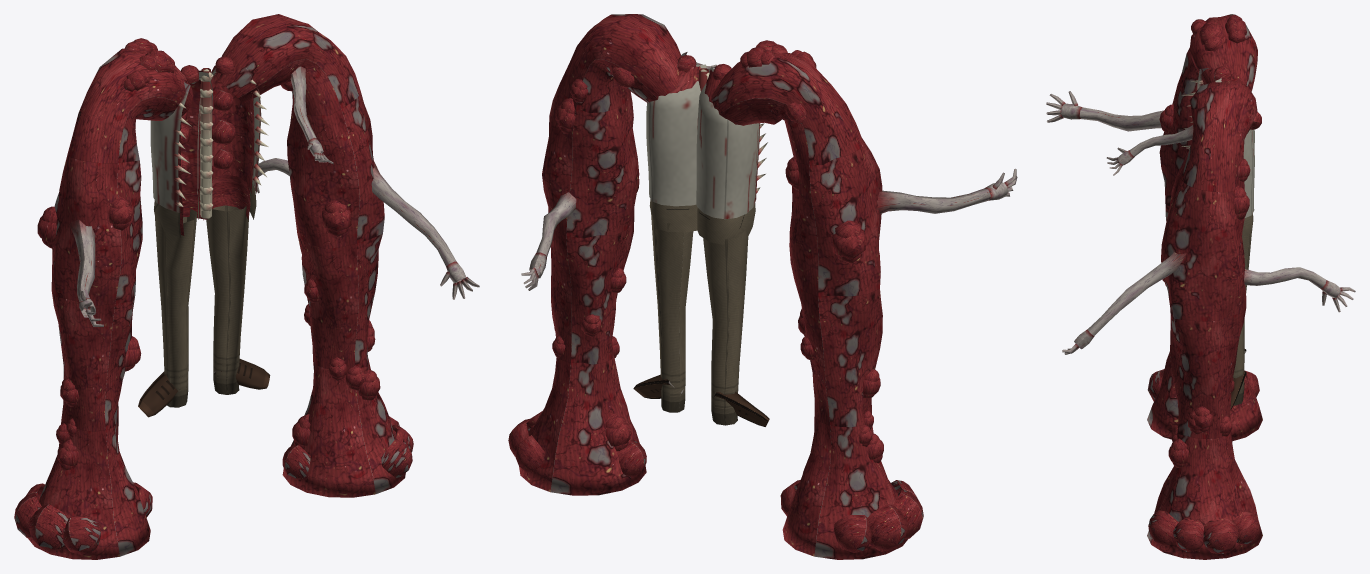
The model's file is brute_twoarm_m03_split.glb.
The picture shows the model from 3 angles, left to right: view 1: azimuth 30°, elevation 25°; view 2: azimuth 150°, elevation 25°; view 3: azimuth 270°, elevation 25°; orthographic projection. The views are drawn at different scales.
Parts seen in each view (by area): view 1: brute_twoarm_m03_split; view 2: brute_twoarm_m03_split; view 3: brute_twoarm_m03_split.
Boxes of the visible parts, x1,y1,x2,y2 form: brute_twoarm_m03_split: [14, 14, 479, 559]; brute_twoarm_m03_split: [508, 14, 1017, 559]; brute_twoarm_m03_split: [1046, 14, 1355, 559].
Bounding box in the file's own units: 2.38 × 2.72 × 1.71.
Materials: 1 (1 with a texture image).
